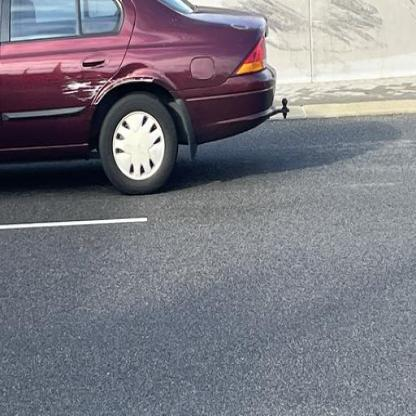Tire: (99, 94, 179, 196)
